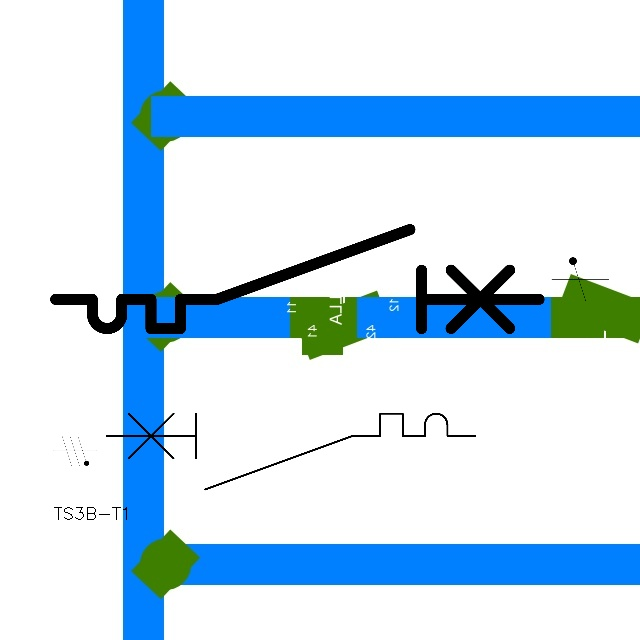interruptor_termomagnetico: (43, 217, 552, 341), (96, 404, 484, 499)
